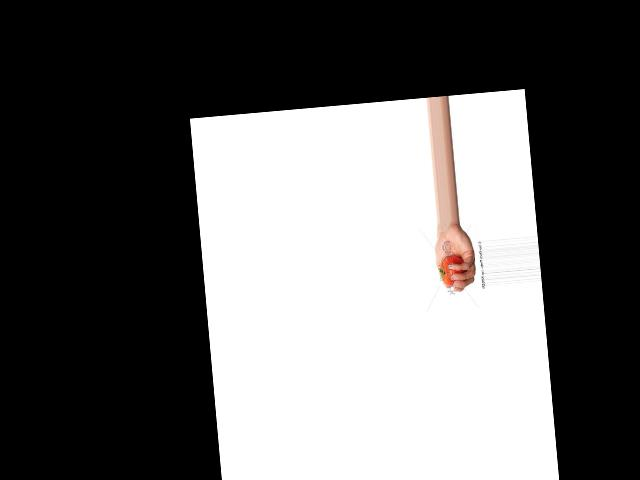tomato: (439, 256, 467, 287)
